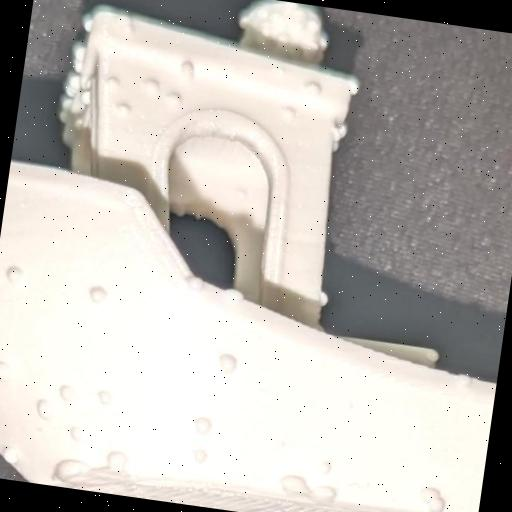blobs: (48, 446, 92, 488), (303, 478, 346, 510), (97, 444, 133, 477), (30, 395, 64, 424), (68, 40, 96, 74), (60, 68, 88, 102), (211, 344, 241, 374), (185, 410, 217, 438), (184, 439, 216, 467), (0, 351, 21, 390), (414, 482, 448, 505), (112, 94, 138, 122), (84, 280, 112, 306), (0, 260, 28, 286), (278, 468, 306, 494), (89, 382, 115, 408), (312, 455, 340, 479), (139, 71, 166, 95), (54, 380, 81, 404), (102, 74, 130, 96), (181, 272, 209, 294), (172, 57, 201, 78), (220, 282, 248, 303), (64, 424, 89, 446), (278, 100, 303, 121), (72, 13, 97, 33), (312, 291, 335, 311), (0, 445, 22, 465), (421, 498, 452, 512), (302, 80, 326, 97), (165, 88, 183, 106), (273, 436, 292, 453)
